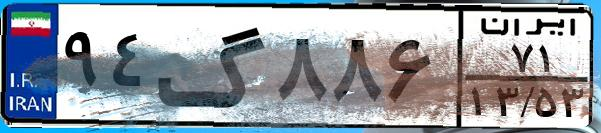1: (537, 27, 568, 80), (470, 70, 495, 125)
3: (560, 70, 590, 125), (495, 70, 520, 125)
4: (110, 28, 156, 98)
5: (535, 70, 560, 125)
6: (385, 28, 445, 110)
7: (508, 27, 537, 80)
8: (270, 28, 330, 110), (330, 28, 385, 110)
9: (57, 26, 110, 100)
گ: (156, 12, 270, 120)
